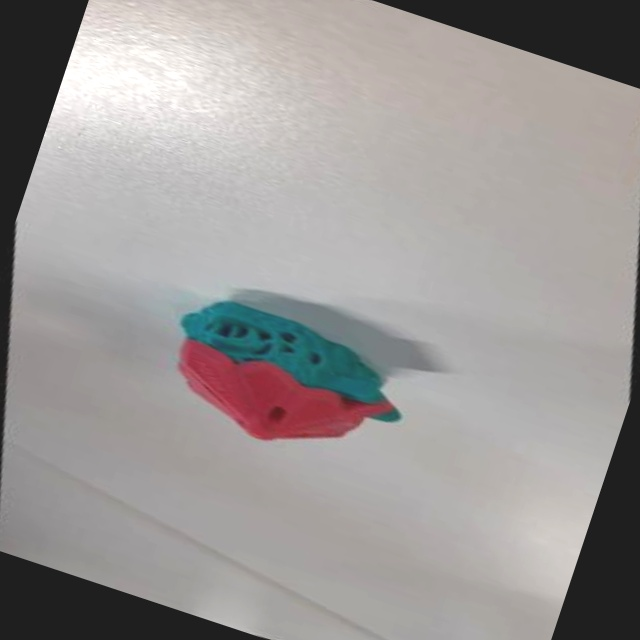House: (133, 269, 439, 493)
